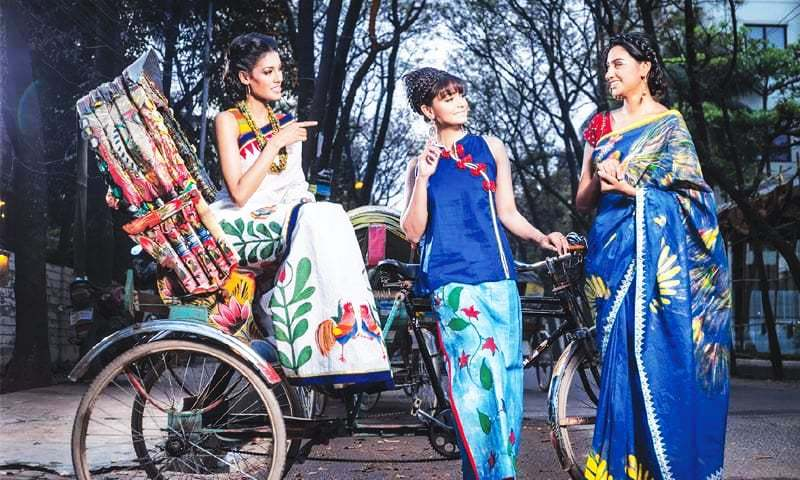Rickshaw: (69, 48, 668, 474), (352, 186, 433, 404)
